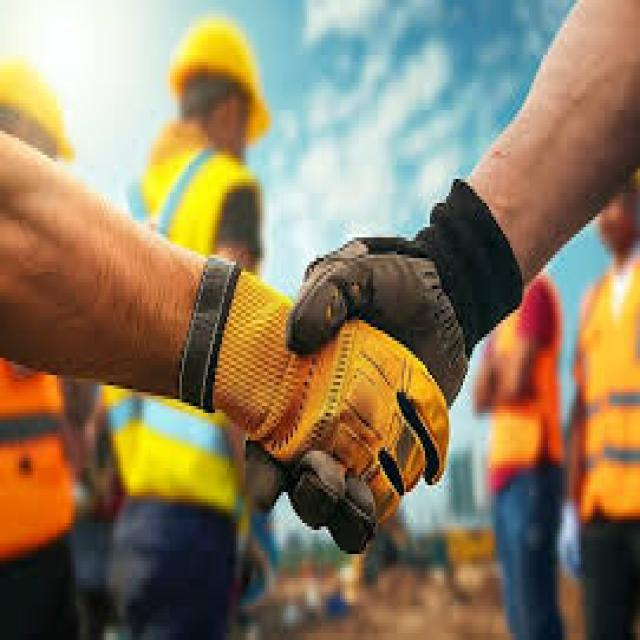gloved: (184, 243, 449, 514), (302, 170, 526, 378)
